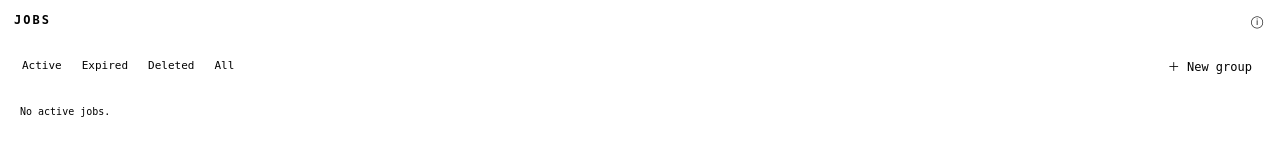
Test case: the symbol › is on an expired job, with the tooltip "Run again"
Click the button "All" at (224,66), box 206,56 -> 242,75
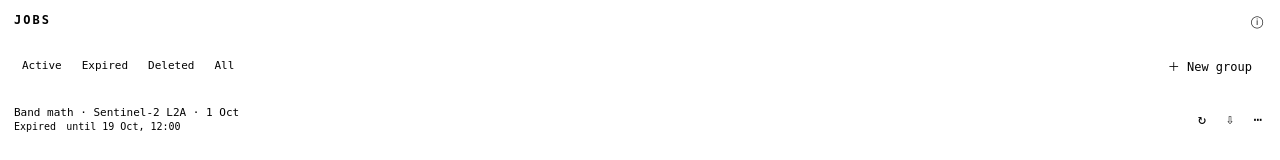
Now the button "↻" is shown, box 1190,107 -> 1214,131
